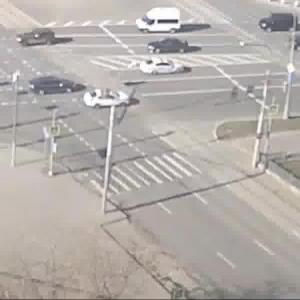car: (129, 6, 185, 38), (135, 53, 184, 79), (257, 11, 300, 34), (32, 75, 78, 96), (80, 89, 126, 108), (18, 28, 58, 49), (146, 39, 186, 55)
